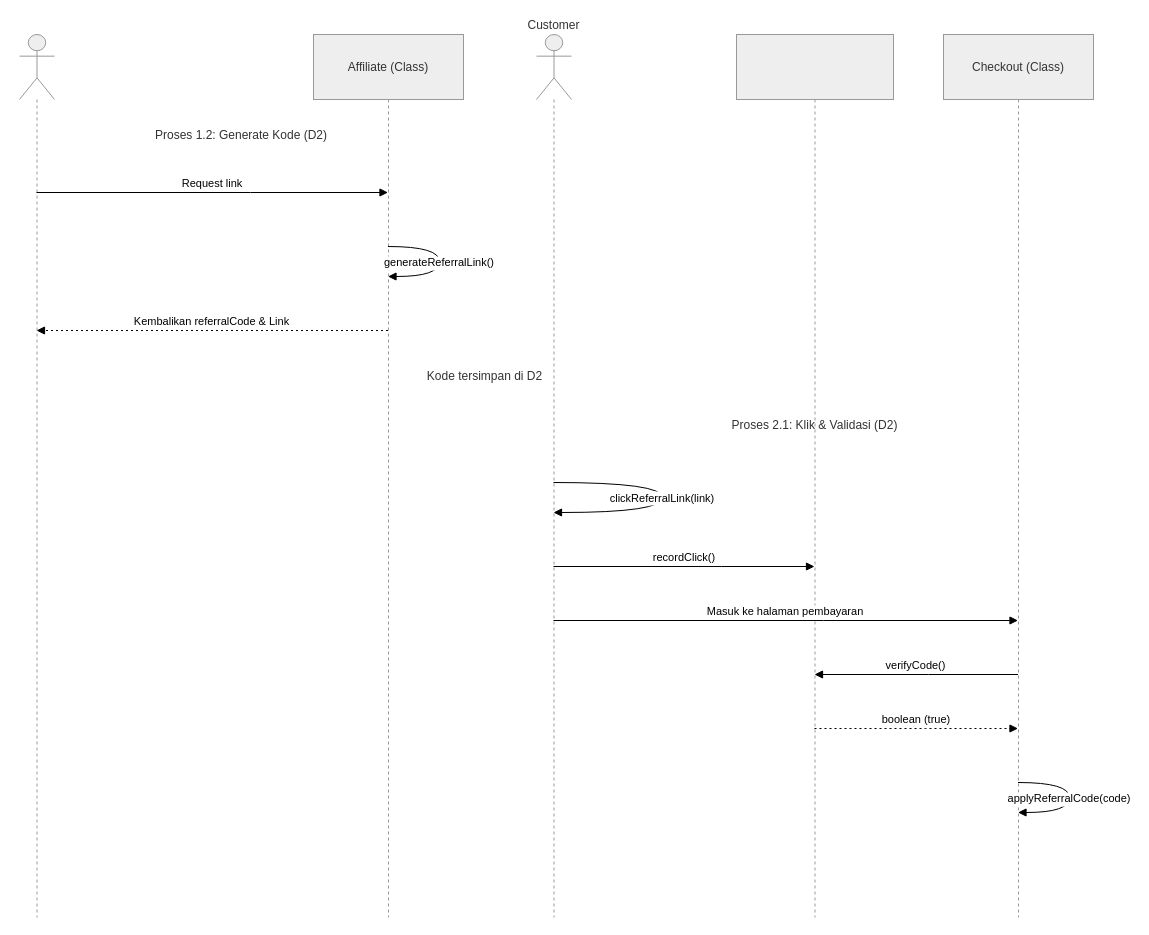
Some shapes in this 1149 by 935 pixel diagram are drawn without their labels. Here are the shapes that lost their labels. From the top down, the box of each, then its label:
(18, 34, 54, 918): Affiliate
(736, 34, 894, 918): ReferralClick (Class)
